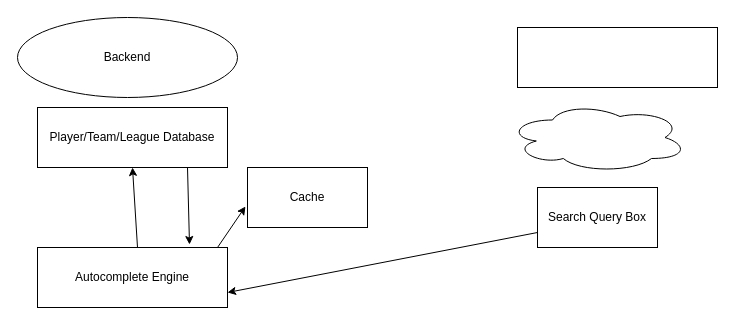
The diagram is 735 pixels wide and 325 high, and some of its shapes have lost their labels. Here are the shapes that lost their labels. From the top down, the centre of each, then its label:
the point at 617,57: Internal Web Application
the point at 597,137: Users (Coaches, Scouts, Managers)
